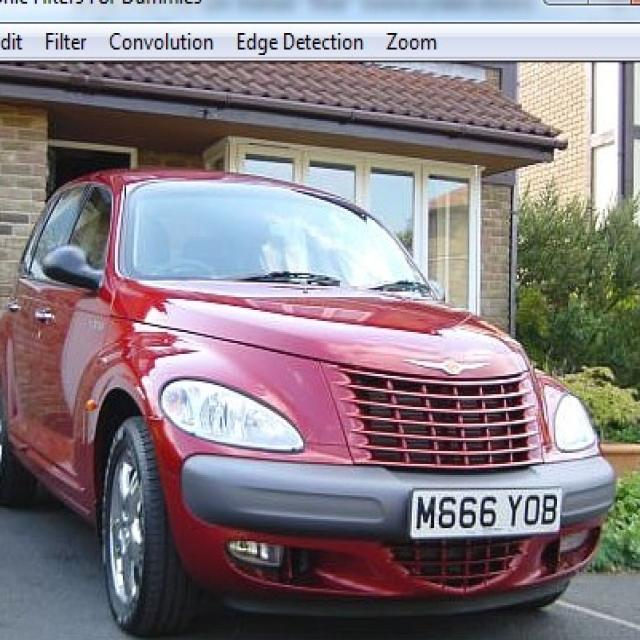license_plate: (415, 492, 562, 536)
